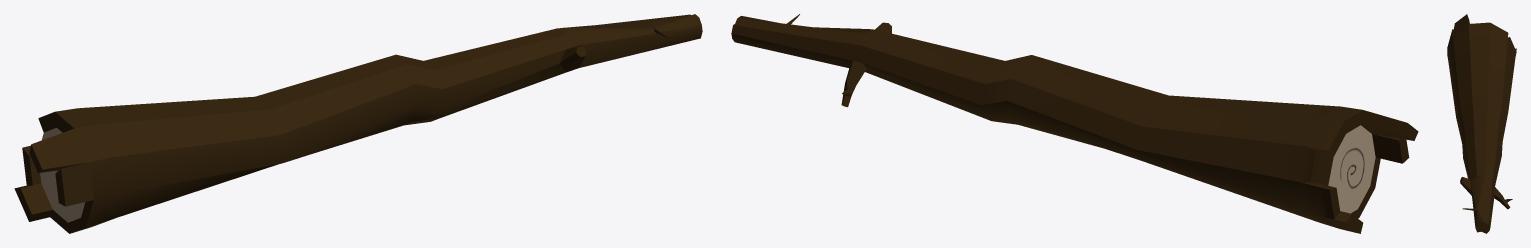
File: dead_log2.fbx
The picture shows the model from 3 angles, left to right: view 1: azimuth 30°, elevation 25°; view 2: azimuth 150°, elevation 25°; view 3: azimuth 270°, elevation 25°; orthographic projection. The views are drawn at different scales.
Parts seen in each view (by area): view 1: dead_log2; view 2: dead_log2; view 3: dead_log2.
Boxes of the visible parts, left/top/right/bottom form: dead_log2: left=14, top=14, right=702, bottom=233; dead_log2: left=731, top=14, right=1418, bottom=233; dead_log2: left=1447, top=14, right=1516, bottom=233.
Bounding box in the file's own units: 2253 × 352 × 362.
Materials: 1 (1 with a texture image).
